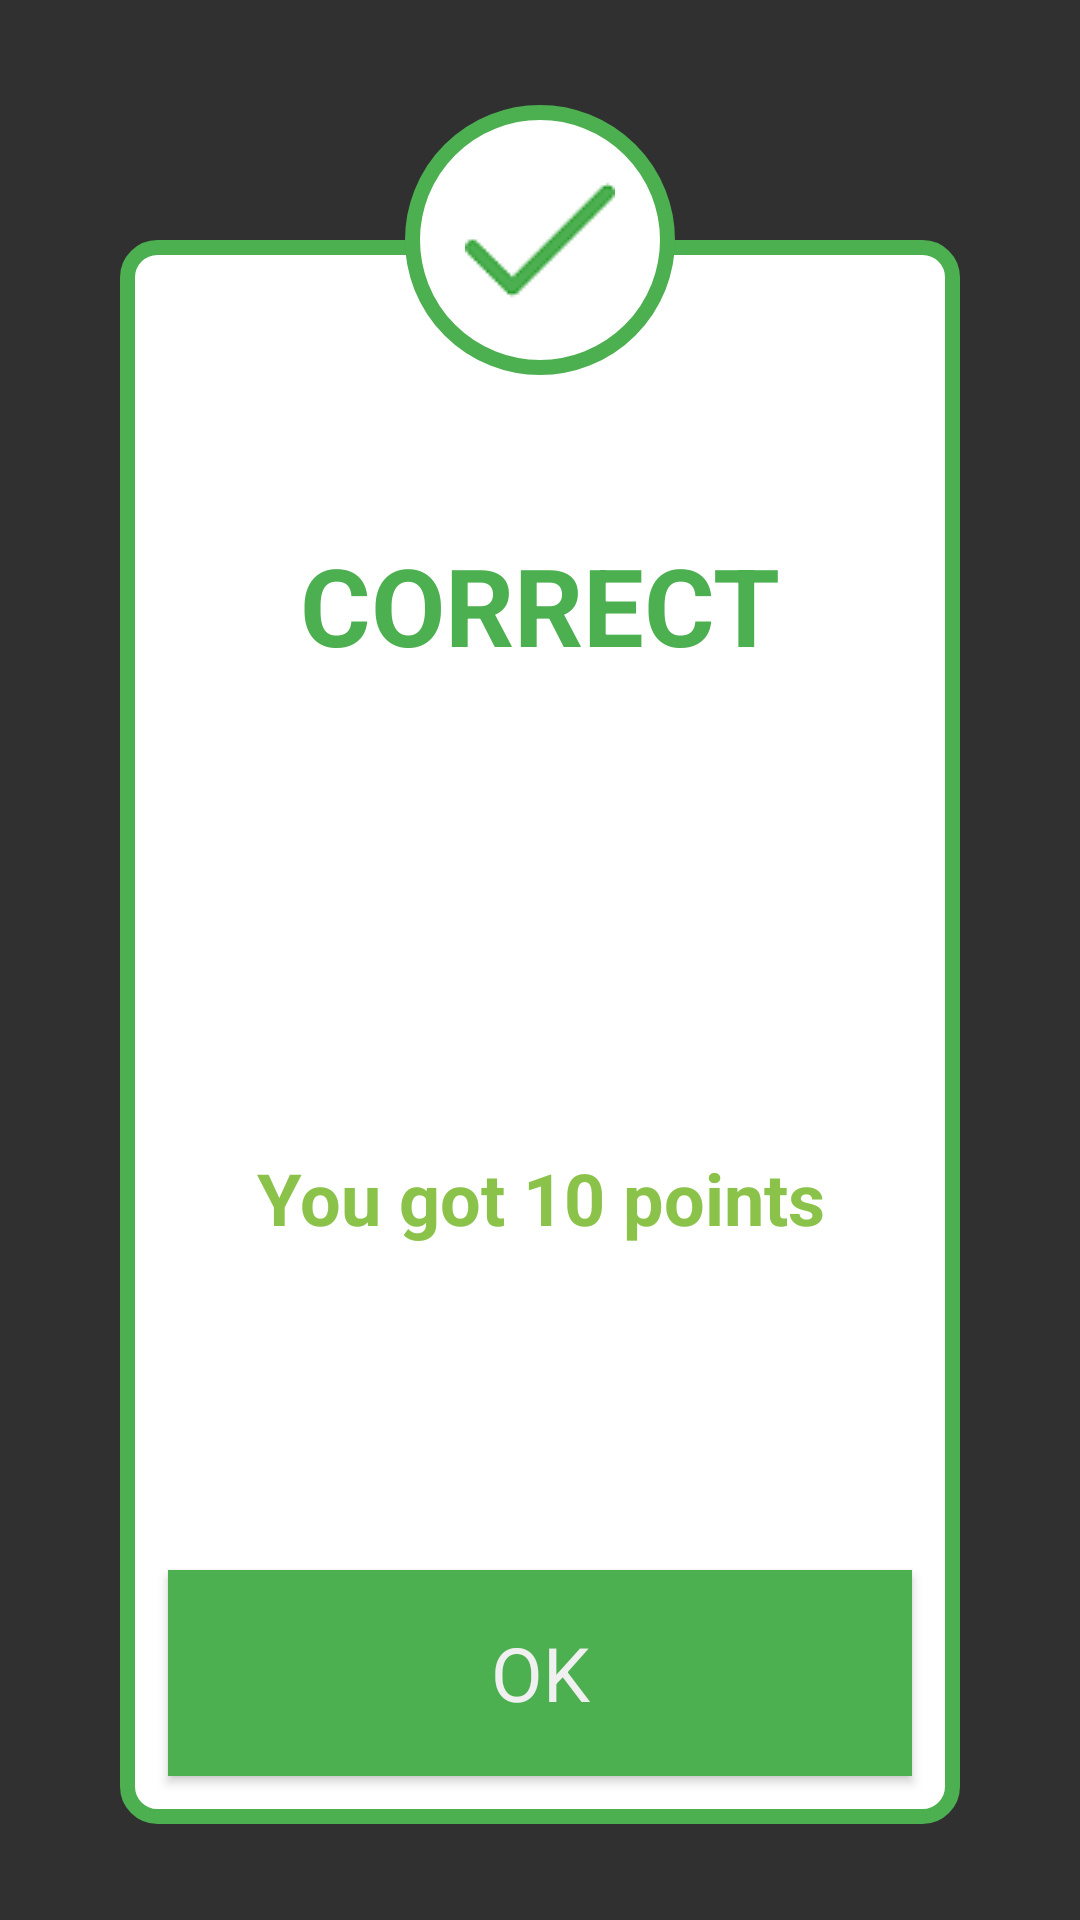

Icons on this 1080 × 1920 Android screen, each with the point to tap as point (x, y):
tick: point (540, 240)
